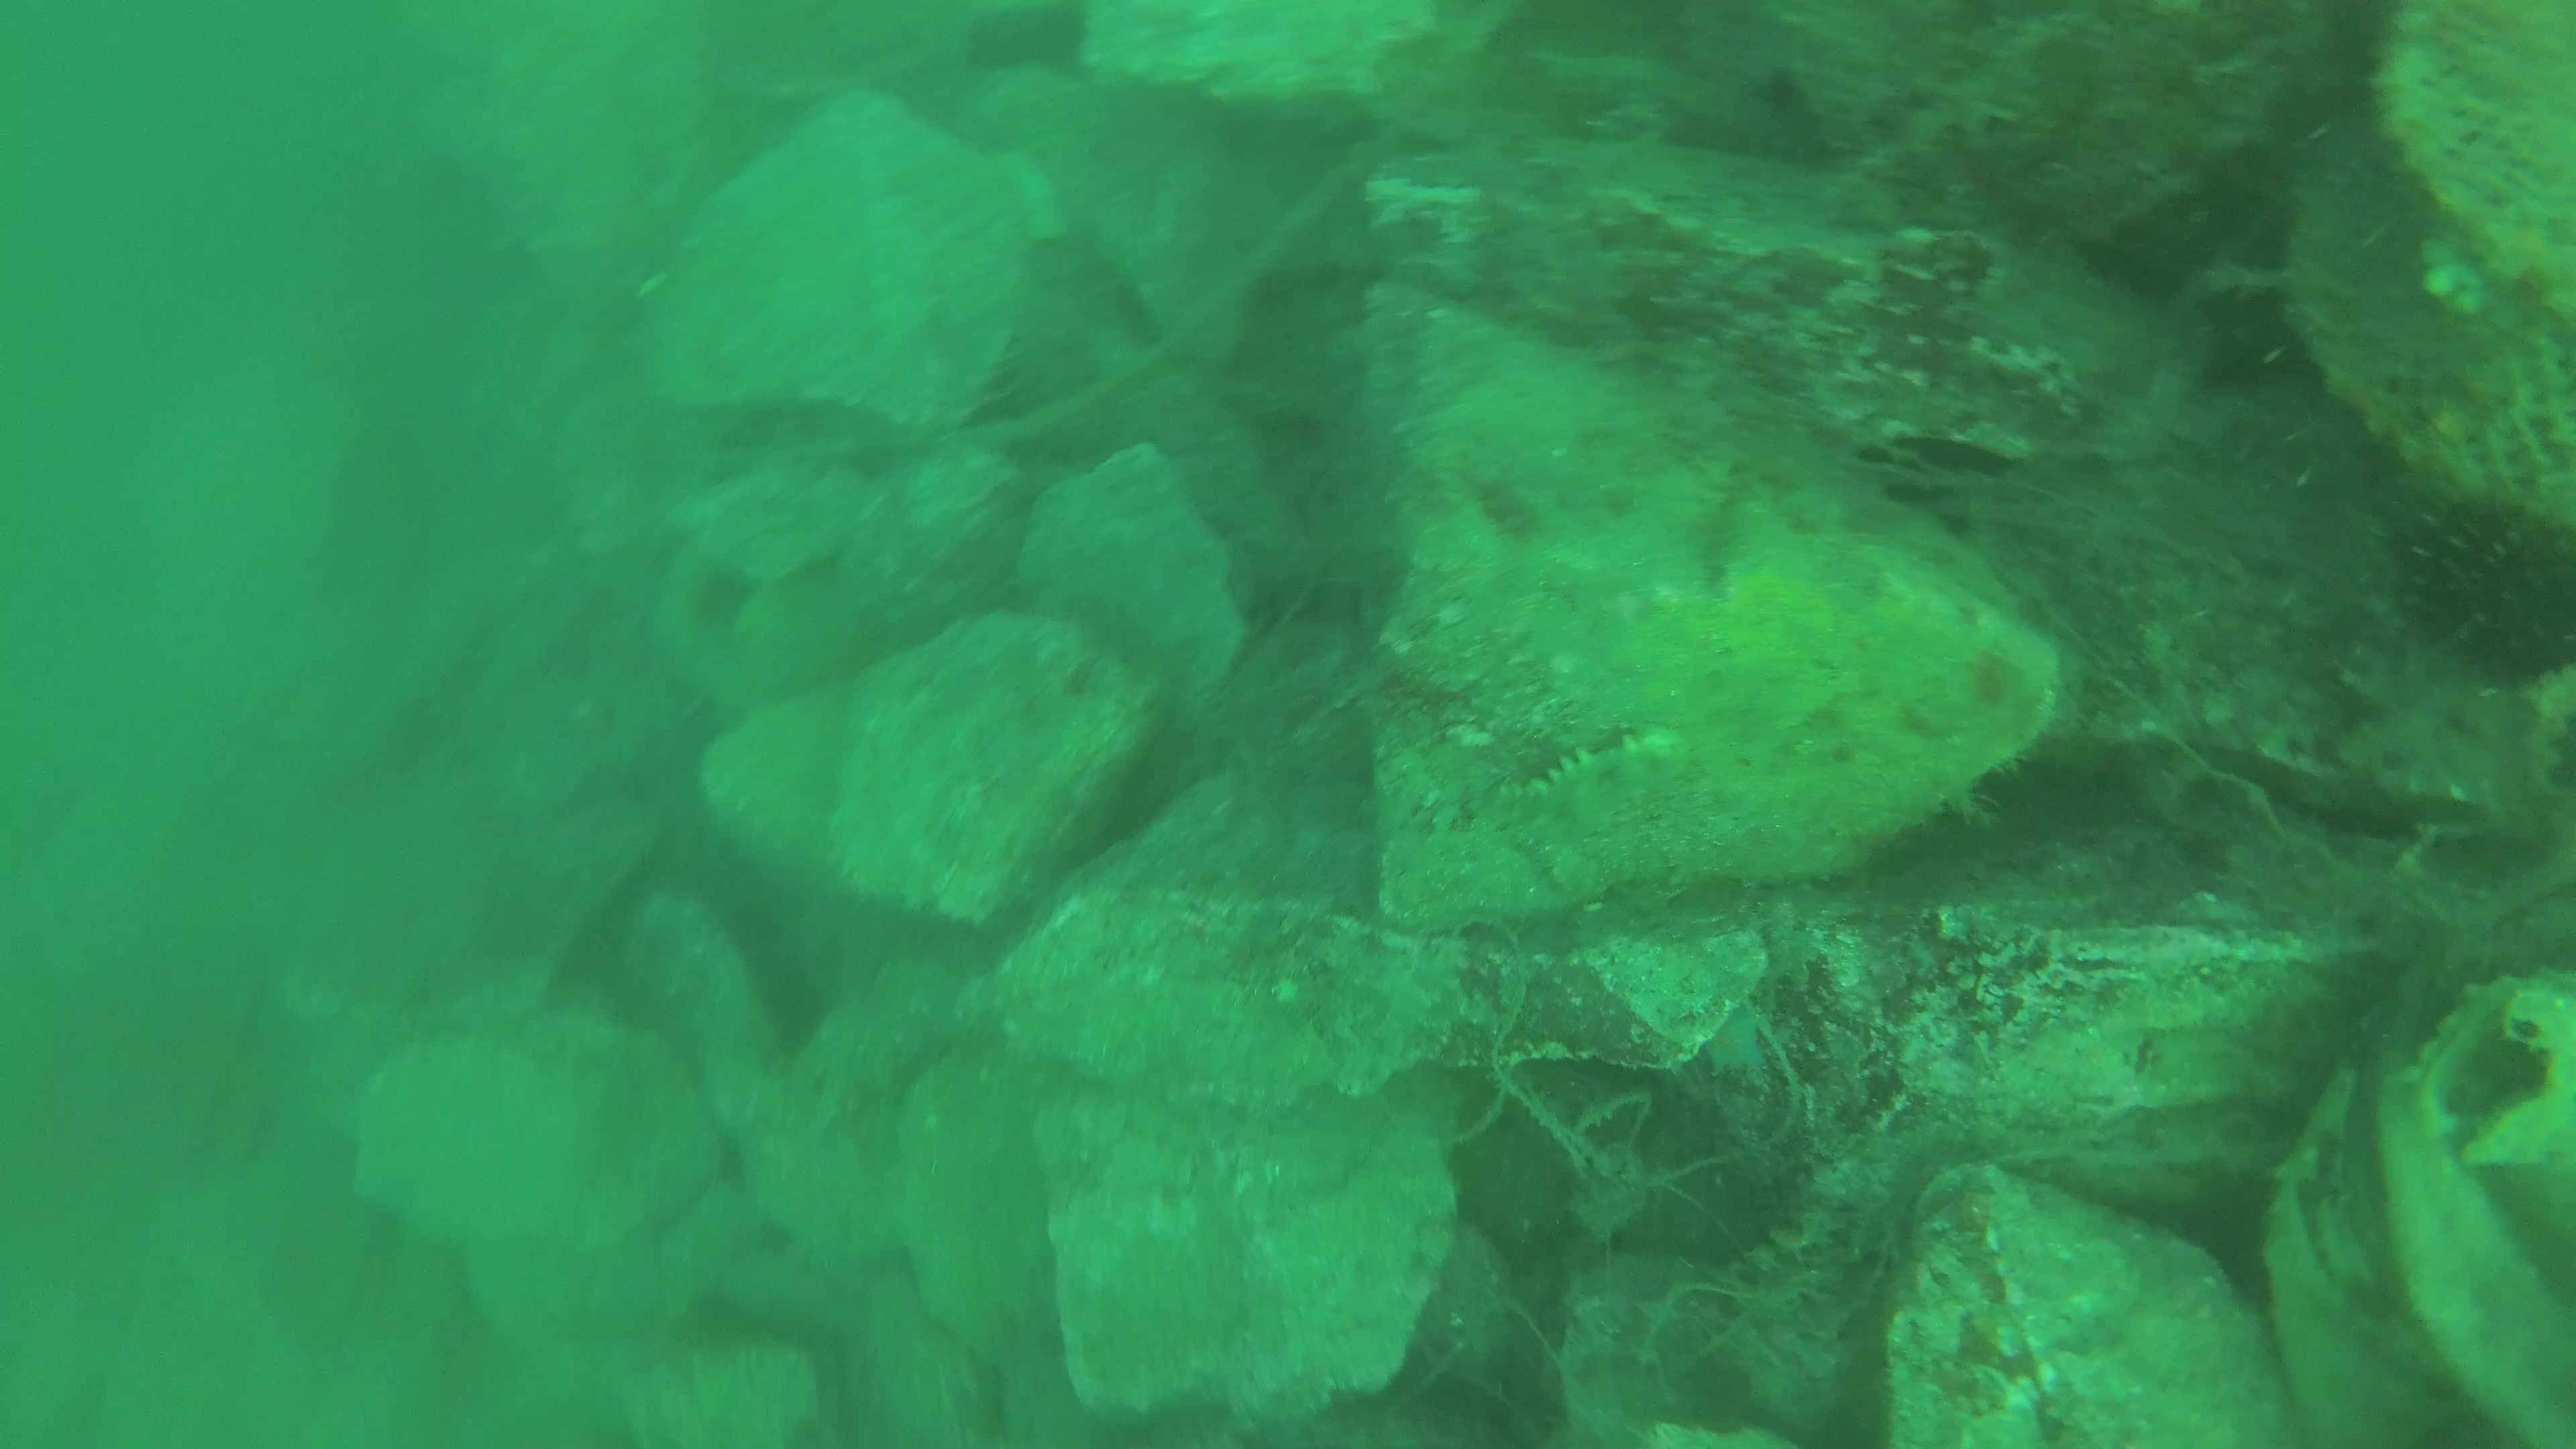echinus: (2387, 495, 2576, 685)
holothurian: (1863, 310, 2097, 469), (1493, 729, 1679, 833)
